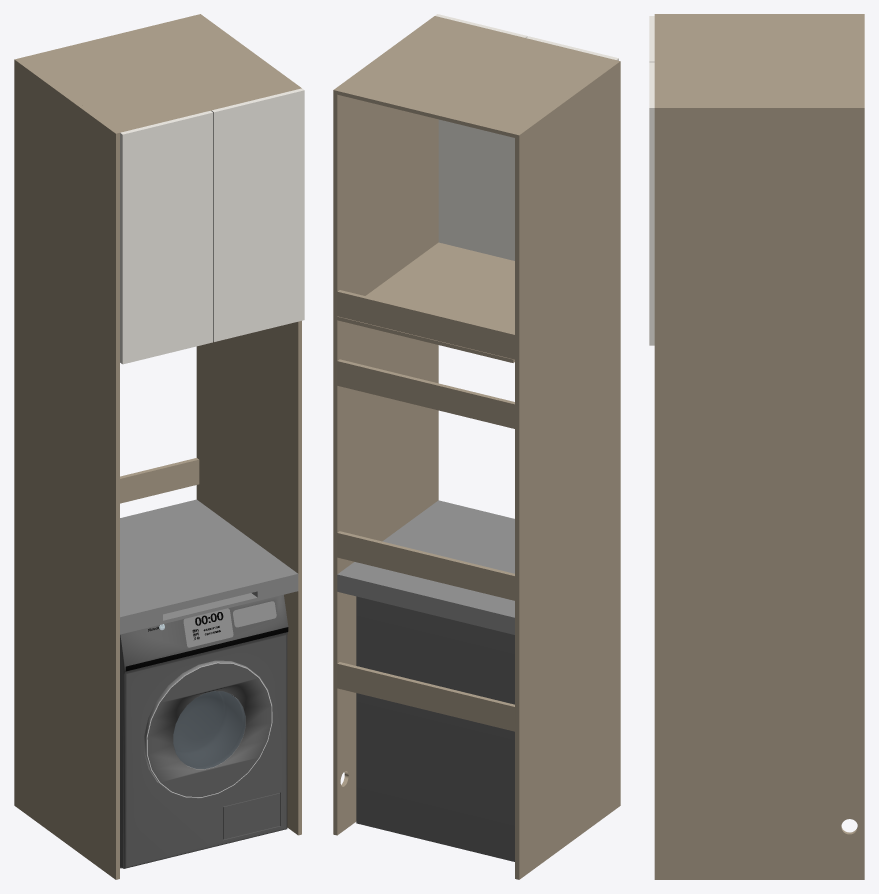
File: washer_tower.glb
The picture shows the model from 3 angles, left to right: view 1: azimuth 30°, elevation 25°; view 2: azimuth 150°, elevation 25°; view 3: azimuth 270°, elevation 25°; orthographic projection. The views are drawn at different scales.
Visible parts, largest first — view 1: Material3, Material2.011, Material2.007, Material2.005, Material2.004, Material2.013, Material3.001; view 2: Material3, Material2.007, Material2.005, Material2.011; view 3: Material3, Material2.011.
Part boxes in pixels (x1=…): Material3: x1=14, y1=14, x2=301, y2=879; Material2.011: x1=120, y1=88, x2=304, y2=364; Material2.007: x1=120, y1=594, x2=288, y2=868; Material2.005: x1=120, y1=499, x2=298, y2=647; Material2.004: x1=173, y1=691, x2=245, y2=768; Material2.013: x1=125, y1=615, x2=288, y2=671; Material3.001: x1=144, y1=660, x2=272, y2=798; Material3: x1=333, y1=16, x2=620, y2=879; Material2.007: x1=356, y1=596, x2=514, y2=861; Material2.005: x1=337, y1=500, x2=514, y2=634; Material2.011: x1=435, y1=14, x2=618, y2=260; Material3: x1=654, y1=14, x2=864, y2=879; Material2.011: x1=649, y1=16, x2=654, y2=345.
Bounding box in the file's own units: 0.678 × 2.6 × 0.6567.
